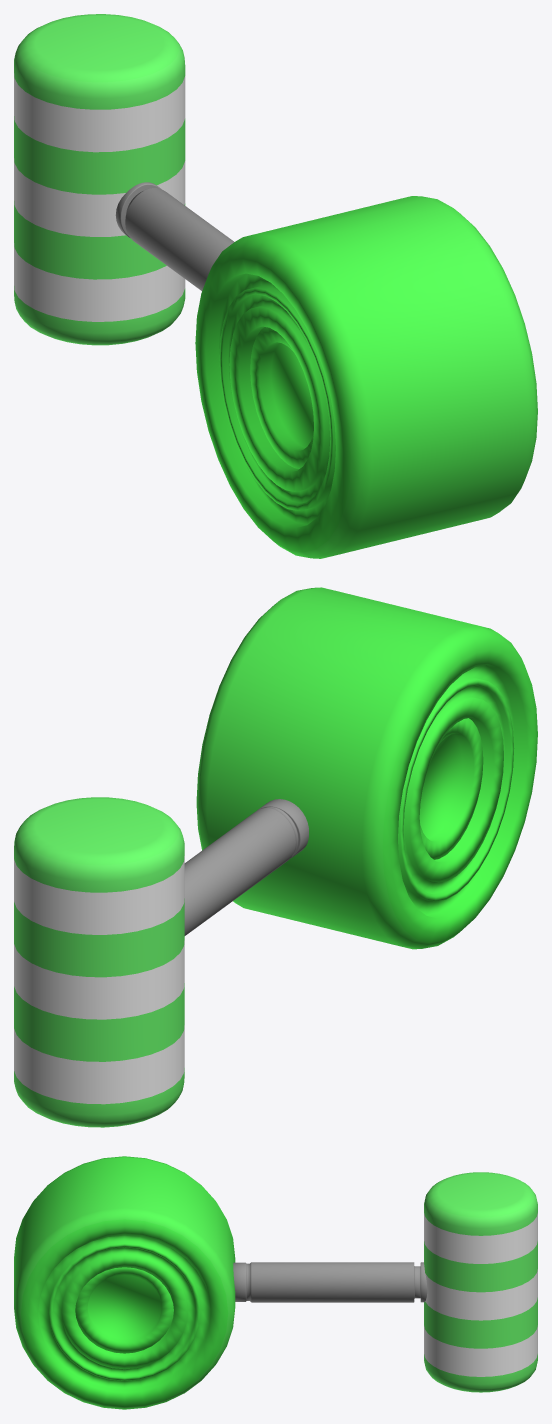
File: green-hammer.glb
The picture shows the model from 3 angles, top to bottom: view 1: azimuth 30°, elevation 25°; view 2: azimuth 150°, elevation 25°; view 3: azimuth 270°, elevation 25°; orthographic projection. The views are drawn at different scales.
Parts seen in each view (by area): view 1: Hammer_large_green.001; view 2: Hammer_large_green.001; view 3: Hammer_large_green.001.
Part boxes in pixels (x1,y1,x2,y2): Hammer_large_green.001: (14,14,537,558); Hammer_large_green.001: (14,587,537,1127); Hammer_large_green.001: (14,1156,537,1409).
Bounding box in the file's own units: 1.38 × 2.08 × 4.92.
1 material, 1 textured.
